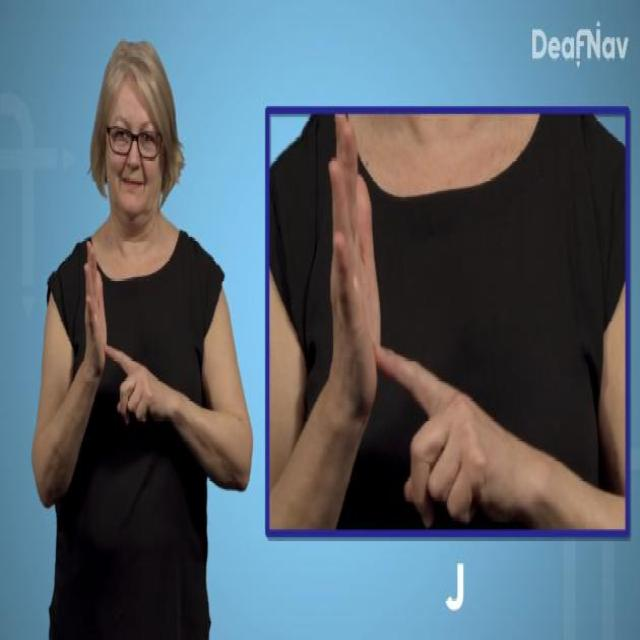J: (326, 116, 498, 531), (84, 238, 160, 430)
